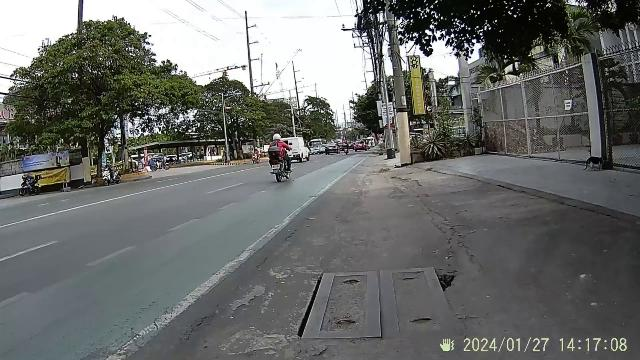cracked_pavement: (296, 244, 472, 344)
utility_post: (359, 7, 425, 173)
